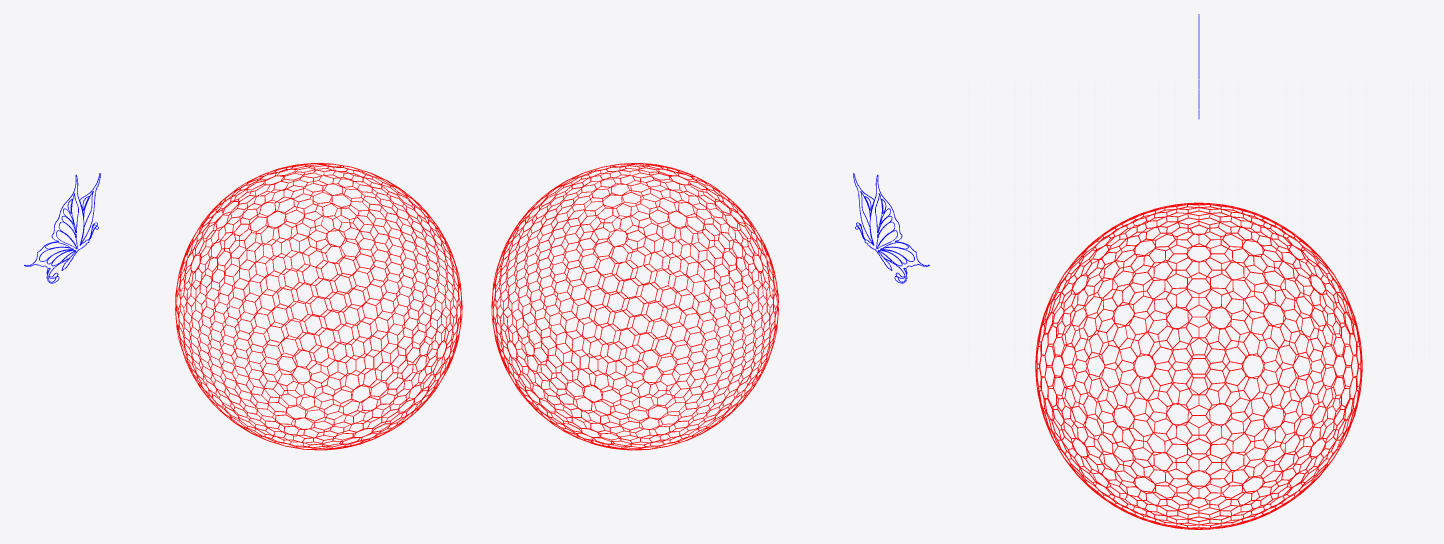
3 renders of one model, left to right at view 1: azimuth 30°, elevation 25°; view 2: azimuth 150°, elevation 25°; view 3: azimuth 270°, elevation 25°, orthographic. The views are drawn at different scales.
Bounding box in the file's own units: 6.75 × 5.54 × 5.66.
